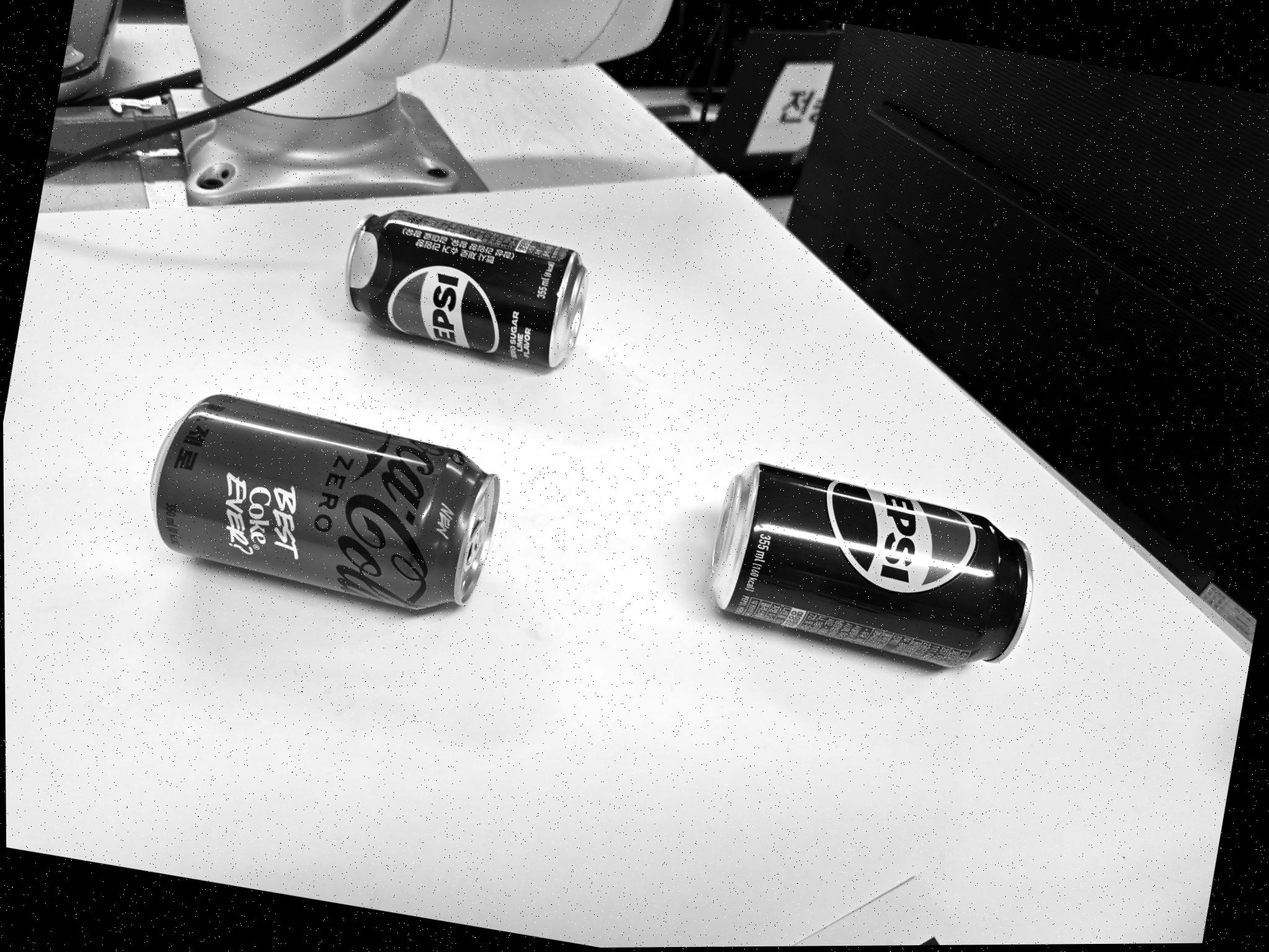can_coke_zero: (152, 395, 499, 609)
can_pepsi: (710, 462, 1035, 667)
can_pepsi_zero: (347, 211, 588, 367)
